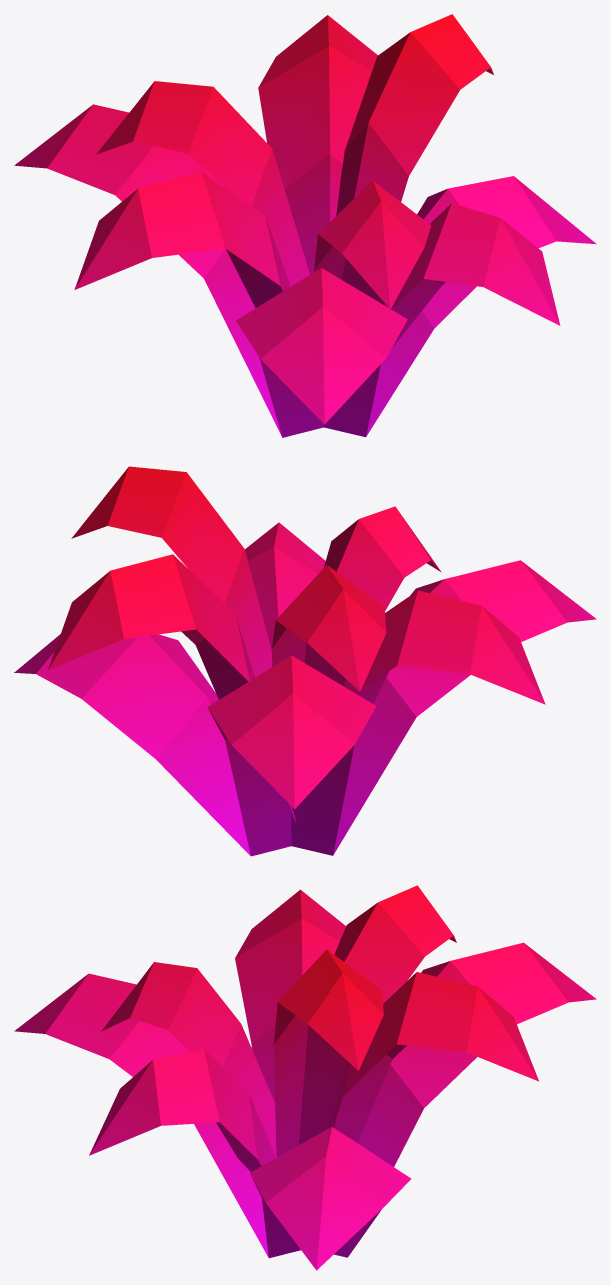
Rendered from synty-plant-fern-03.gltf.
3 renders of one model, top to bottom at view 1: azimuth 30°, elevation 25°; view 2: azimuth 150°, elevation 25°; view 3: azimuth 270°, elevation 25°, orthographic. The views are drawn at different scales.
Parts seen in each view (by area): view 1: SM_Plant_Fern_03; view 2: SM_Plant_Fern_03; view 3: SM_Plant_Fern_03.
Boxes of the visible parts, <box> form: SM_Plant_Fern_03: <box>14,14,596,437</box>; SM_Plant_Fern_03: <box>14,466,596,856</box>; SM_Plant_Fern_03: <box>14,885,596,1270</box>.
Bounding box in the file's own units: 0.6733 × 0.4409 × 0.6779.
1 material, 1 textured.
